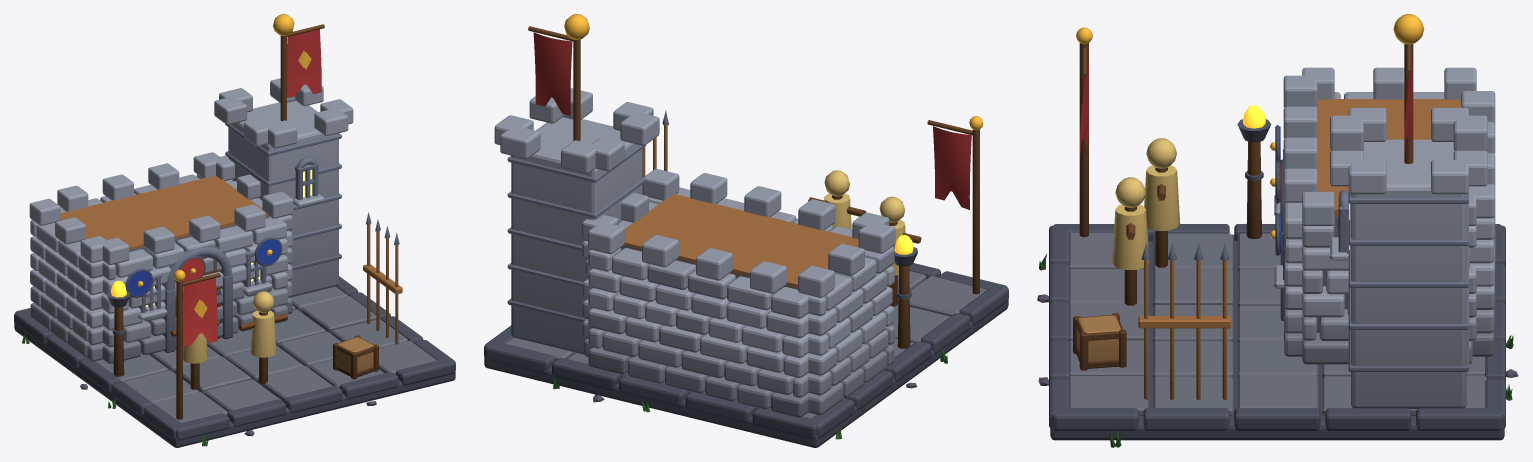
The model's file is barracks.glb.
3 renders of one model, left to right at view 1: azimuth 30°, elevation 25°; view 2: azimuth 150°, elevation 25°; view 3: azimuth 270°, elevation 25°, orthographic. The views are drawn at different scales.
Parts seen in each view (by area): view 1: t0_stone, t0_stone_dark, t0_wood, t0_wood_dark, t0_cloth_red, t0_straw, t2_cloth_red, t2_wood_dark, t0_cloth_blue, t0_wood_light, t0_iron, t1_wood_dark; view 2: t0_stone, t0_stone_dark, t0_wood, t0_cloth_red, t2_cloth_red, t0_straw, t0_wood_dark, t2_wood_dark, t1_wood_dark, t3_gold; view 3: t0_stone, t0_stone_dark, t0_wood, t0_straw, t0_wood_dark, t2_wood_dark, t0_wood_light, t1_wood_dark, t0_iron, t3_gold, t0_cloth_red, t1_iron (+1 smaller).
Boxes of the visible parts, left/top/right/bottom form: t0_stone: left=29, top=78, right=436, bottom=423; t0_stone_dark: left=14, top=124, right=455, bottom=447; t0_wood: left=60, top=176, right=402, bottom=344; t0_wood_dark: left=170, top=24, right=378, bottom=389; t0_cloth_red: left=181, top=29, right=321, bottom=281; t0_straw: left=183, top=291, right=276, bottom=363; t2_cloth_red: left=183, top=278, right=217, bottom=346; t2_wood_dark: left=176, top=273, right=220, bottom=419; t0_cloth_blue: left=126, top=239, right=280, bottom=296; t0_wood_light: left=337, top=337, right=373, bottom=372; t0_iron: left=125, top=212, right=399, bottom=323; t1_wood_dark: left=113, top=307, right=124, bottom=376; t0_stone: left=494, top=88, right=986, bottom=418; t0_stone_dark: left=484, top=145, right=1008, bottom=447; t0_wood: left=622, top=125, right=858, bottom=289; t0_cloth_red: left=533, top=32, right=572, bottom=116; t2_cloth_red: left=933, top=126, right=971, bottom=209; t0_straw: left=824, top=170, right=905, bottom=275; t0_wood_dark: left=528, top=26, right=921, bottom=306; t2_wood_dark: left=927, top=120, right=979, bottom=294; t1_wood_dark: left=897, top=266, right=910, bottom=348; t3_gold: left=564, top=14, right=589, bottom=39; t0_stone: left=1068, top=67, right=1495, bottom=415; t0_stone_dark: left=1049, top=149, right=1505, bottom=440; t0_wood: left=1138, top=99, right=1461, bottom=399; t0_straw: left=1112, top=138, right=1180, bottom=269; t0_wood_dark: left=1073, top=44, right=1413, bottom=370; t2_wood_dark: left=1079, top=43, right=1088, bottom=237; t0_wood_light: left=1077, top=315, right=1120, bottom=361; t1_wood_dark: left=1246, top=141, right=1261, bottom=239; t0_iron: left=1141, top=125, right=1279, bottom=260; t3_gold: left=1393, top=14, right=1424, bottom=44; t0_cloth_red: left=1279, top=55, right=1413, bottom=201; t1_iron: left=1237, top=119, right=1271, bottom=181.
Size of the model in its own units: 3.11 by 2.84 by 3.12.
